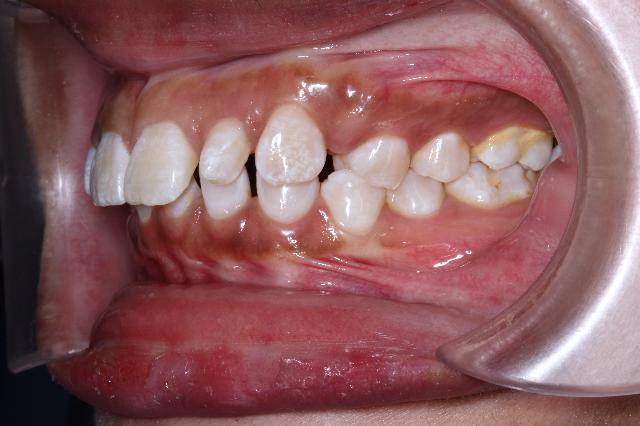canine class II 1/2: (252, 99, 391, 241)
molar class I: (447, 111, 557, 221)
